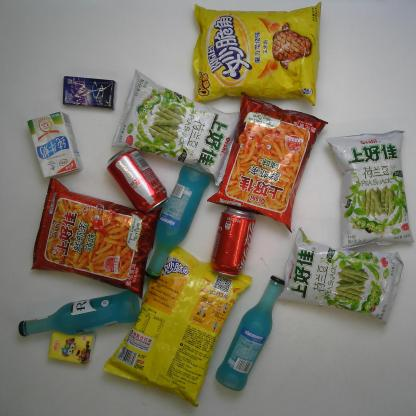Alcohol: (213, 273, 288, 394), (144, 160, 216, 283), (18, 287, 140, 339)
Drink: (106, 143, 171, 217), (206, 203, 259, 282)
Gum: (60, 72, 118, 110)
Milk: (26, 110, 86, 181)
Puffed Food: (100, 237, 257, 409), (202, 90, 330, 235), (29, 178, 163, 301), (109, 65, 241, 188), (272, 225, 405, 326), (189, 5, 323, 105), (322, 127, 416, 250)
Tissue: (48, 332, 94, 365)
